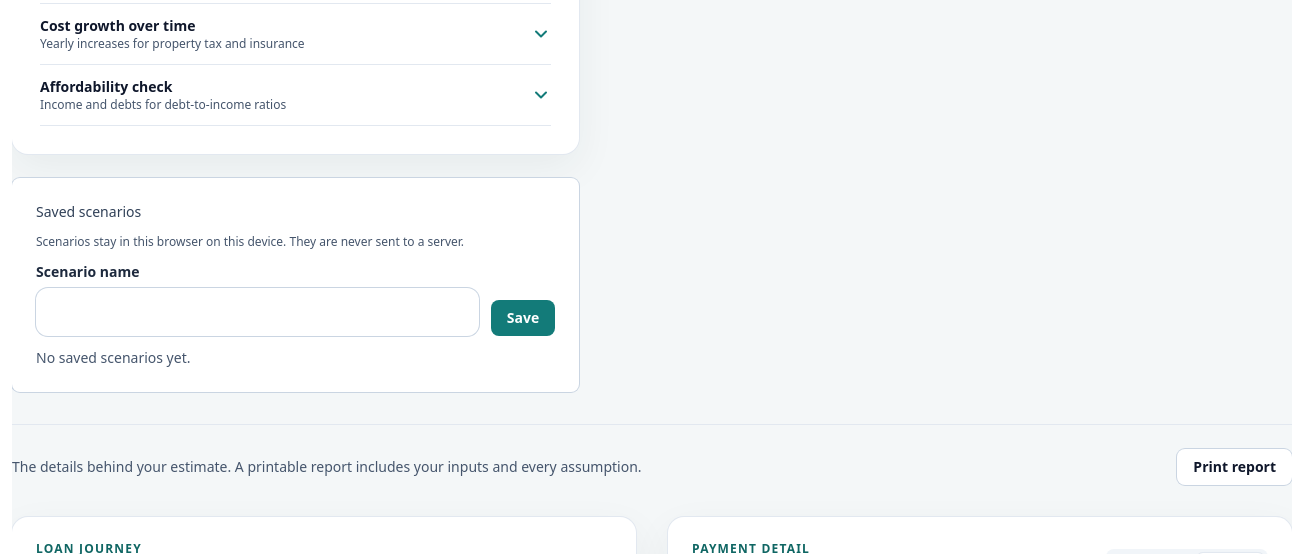
Test: saved scenarios › asks before deleting and removes the scenario on confirm
(page scrolled)
Type "Temp" into the field labelled "Scenario name" at {"x": 257, "y": 312}, box [36, 292, 479, 332]
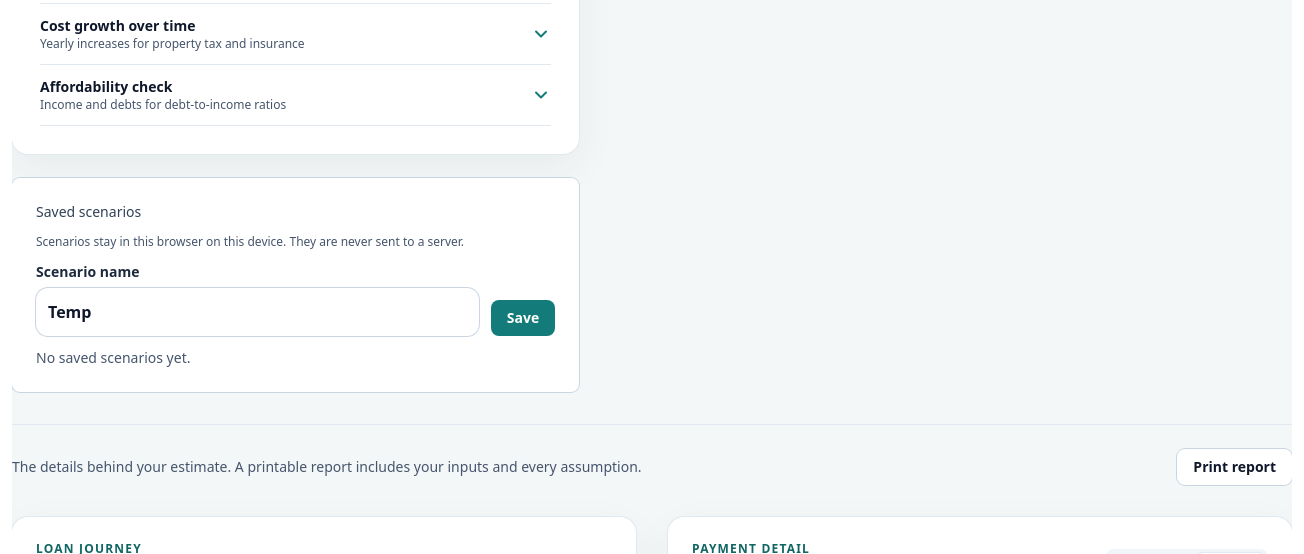
Click the button "Save" at {"x": 523, "y": 318}, box [491, 300, 555, 336]
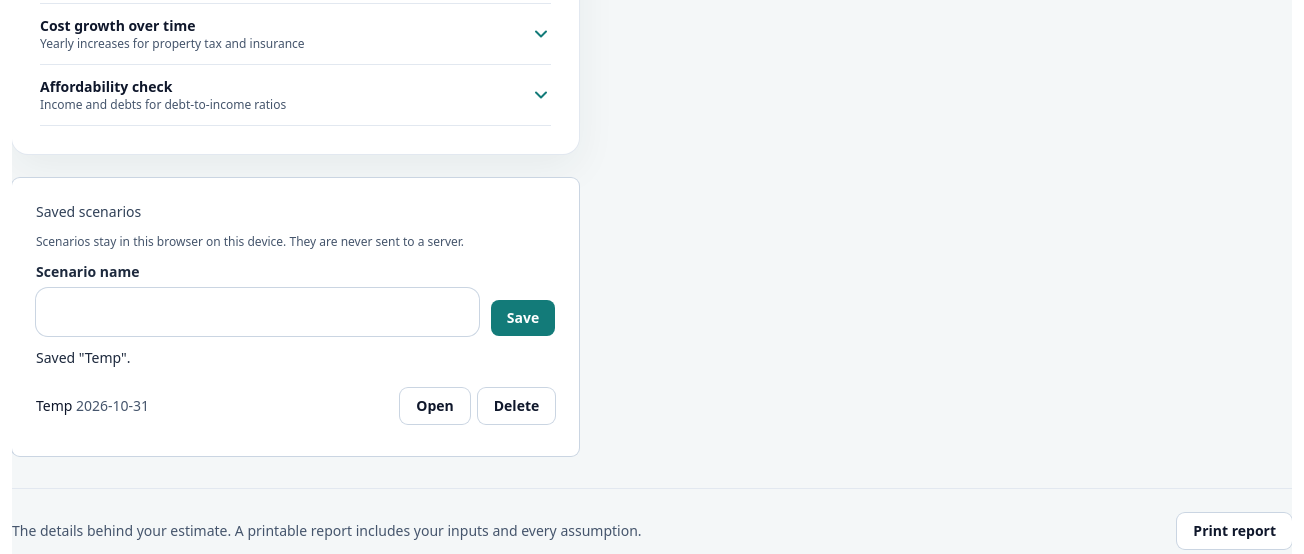
Click the button with aria-label "Delete Temp" at {"x": 516, "y": 406}, box [478, 388, 555, 424]
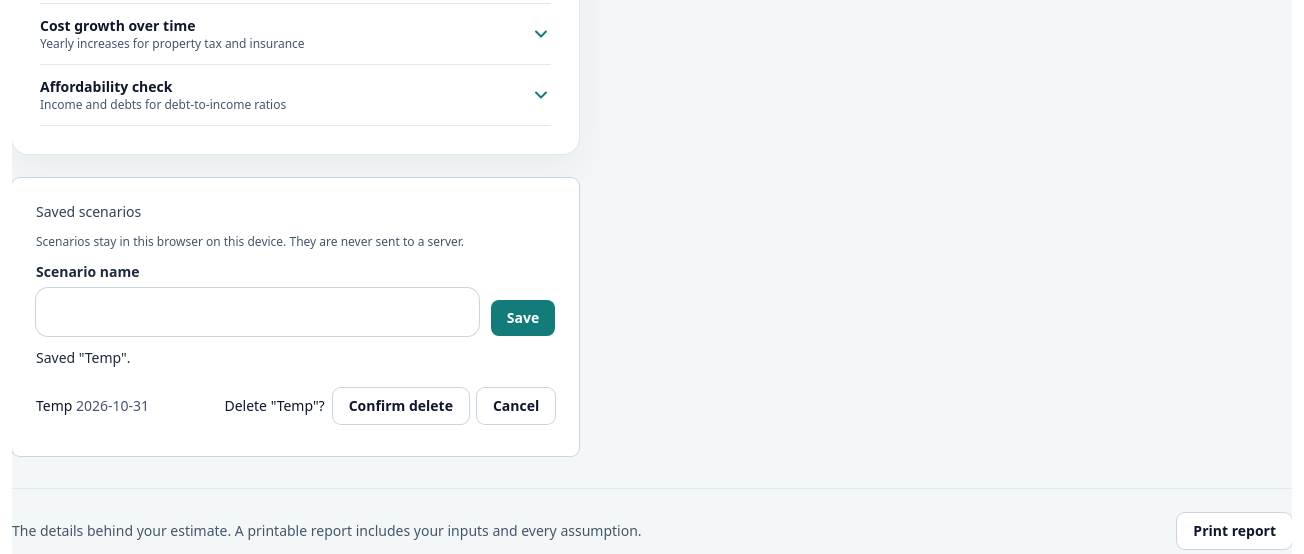
Click the button "Cancel" at {"x": 516, "y": 406}, box [477, 388, 555, 424]
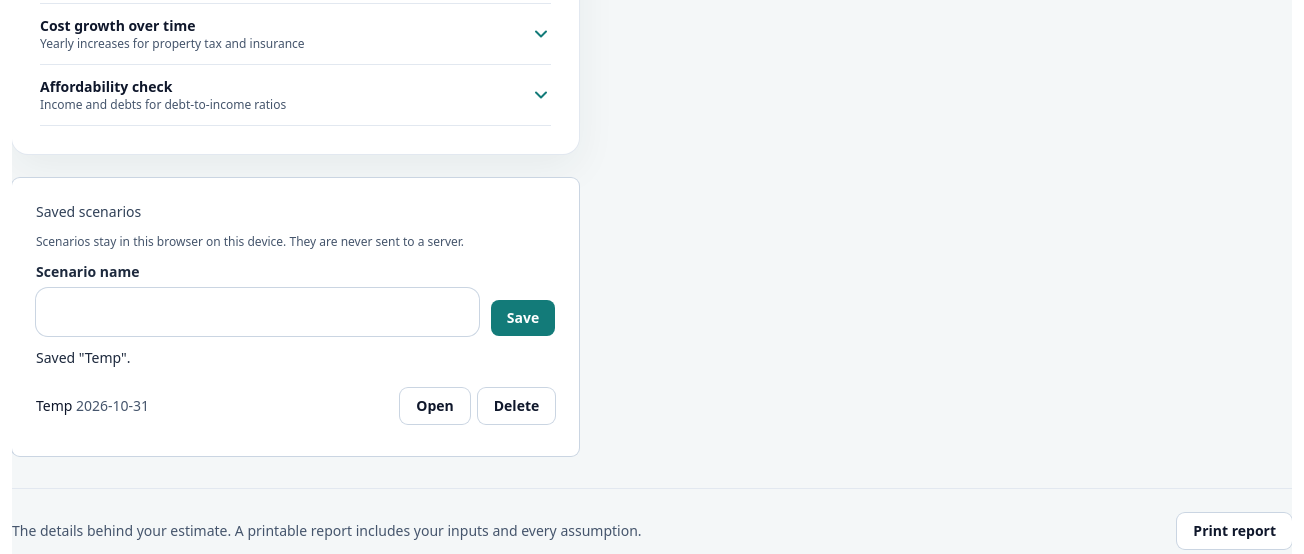
Expected: the text "Temp" is shown, [36, 396, 72, 415]
Click the button with aria-label "Delete Temp" at {"x": 516, "y": 406}, box [478, 388, 555, 424]
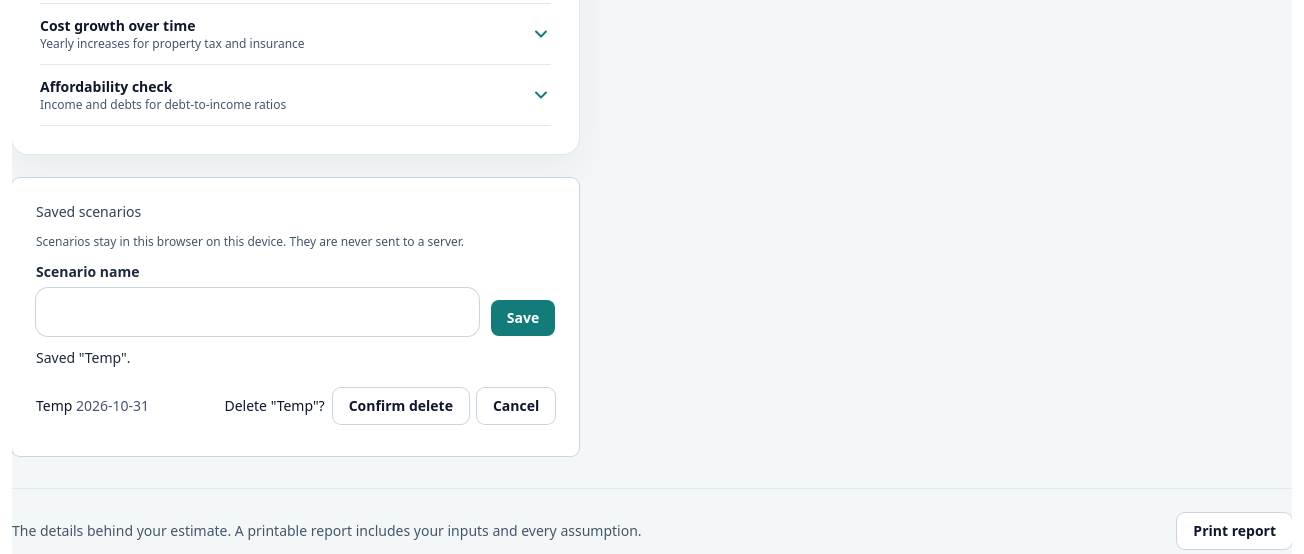
Click the button "Confirm delete" at {"x": 401, "y": 406}, box [333, 388, 469, 424]
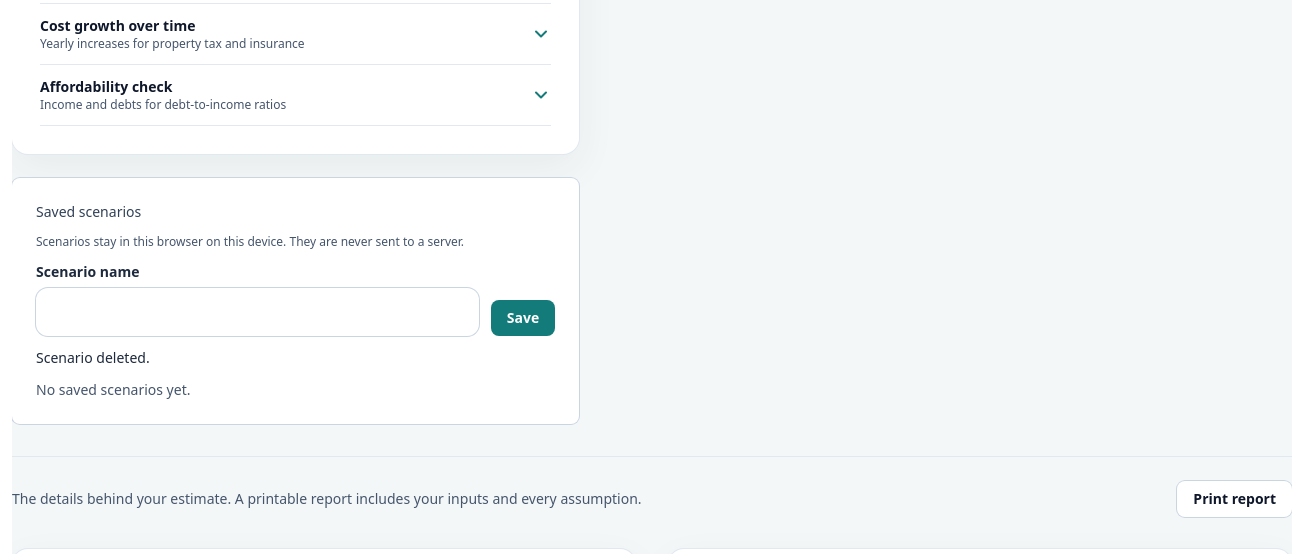
Expected: the text "Temp" is gone
